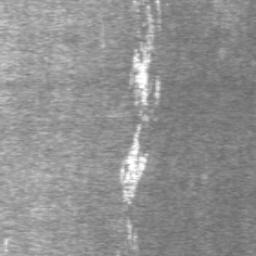White rust: (133, 10, 161, 106), (119, 123, 151, 205), (126, 216, 139, 250), (142, 113, 150, 122)
